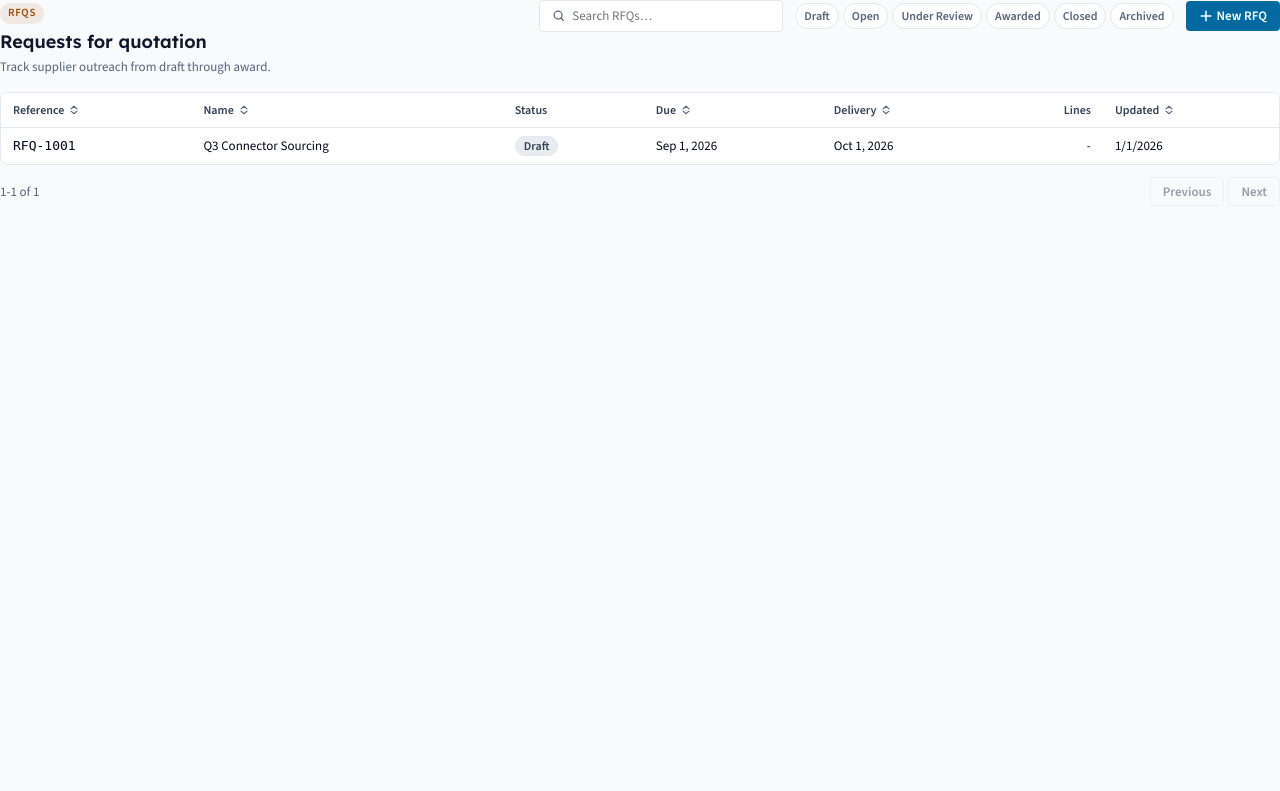
RfqsPage › renders only the legal next-status buttons for a draft RFQ (Open + Archived)
Click the text "Q3 Connector Sourcing" at (266, 146), box x1=192 y1=128 x2=503 y2=164
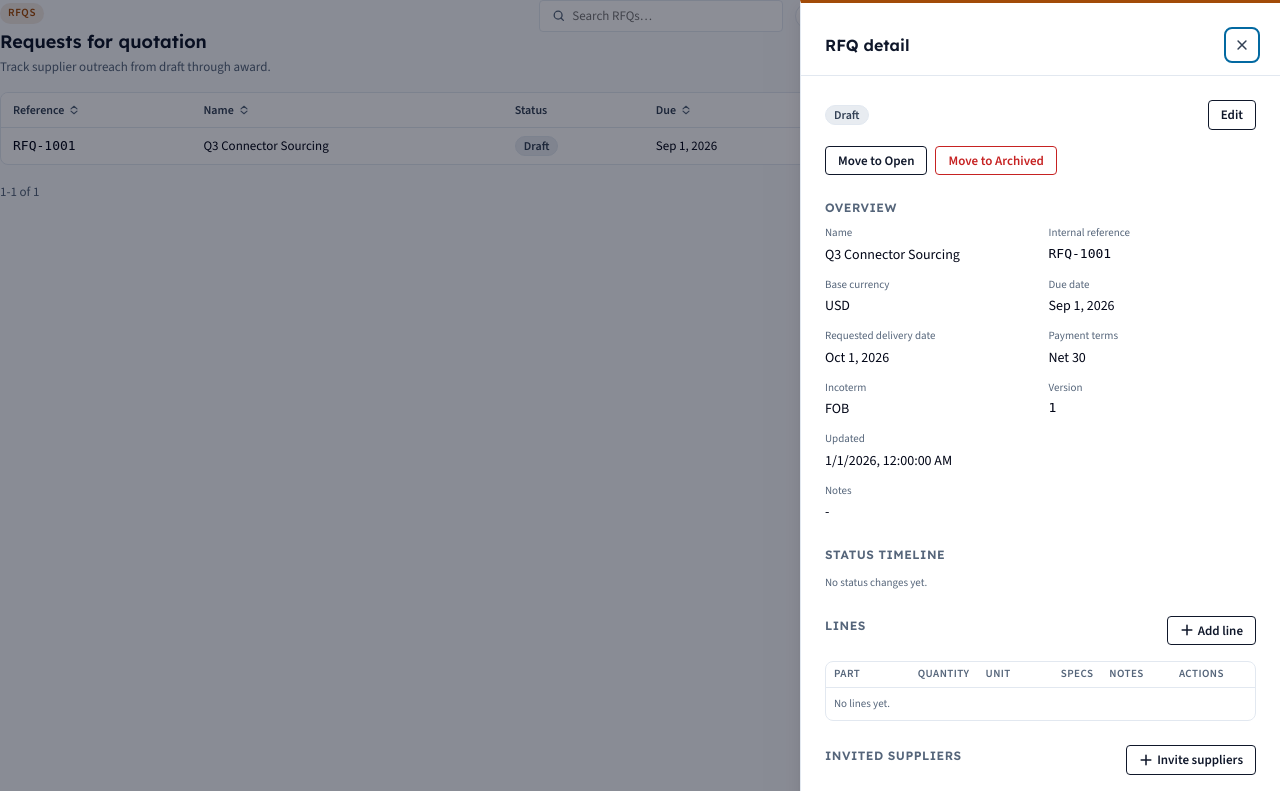
Check: the heading "Status timeline" is shown, box x1=825 y1=547 x2=945 y2=562
Check: the number of buttons "Move to Open" is 2, box x1=825 y1=146 x2=928 y2=175; x1=936 y1=146 x2=1057 y2=175
Check: the button "Move to Open" is shown, box x1=825 y1=146 x2=928 y2=175
